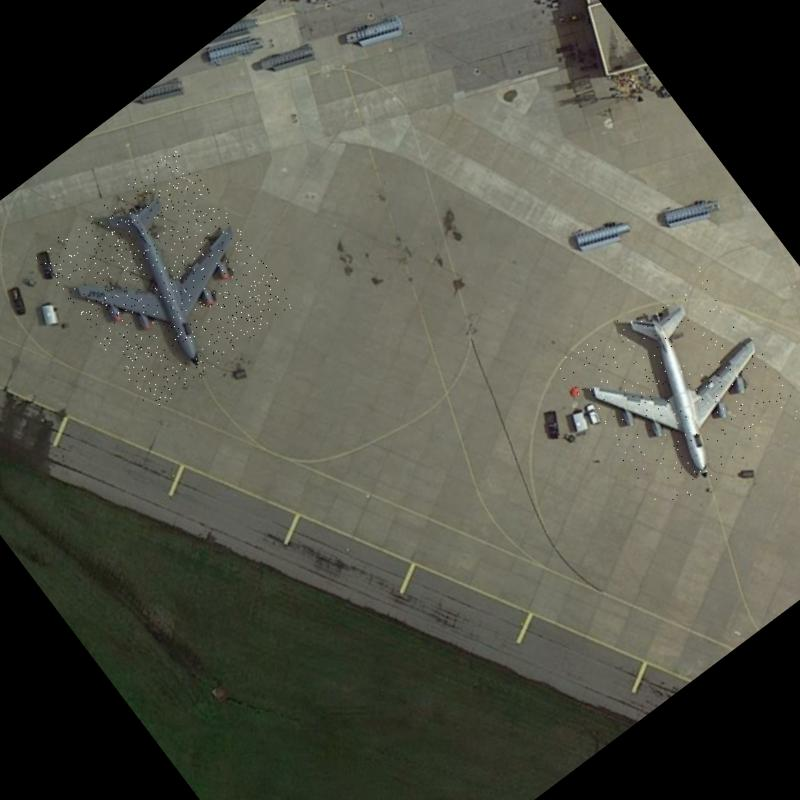A14: (34, 146, 296, 412), (552, 258, 800, 517)
